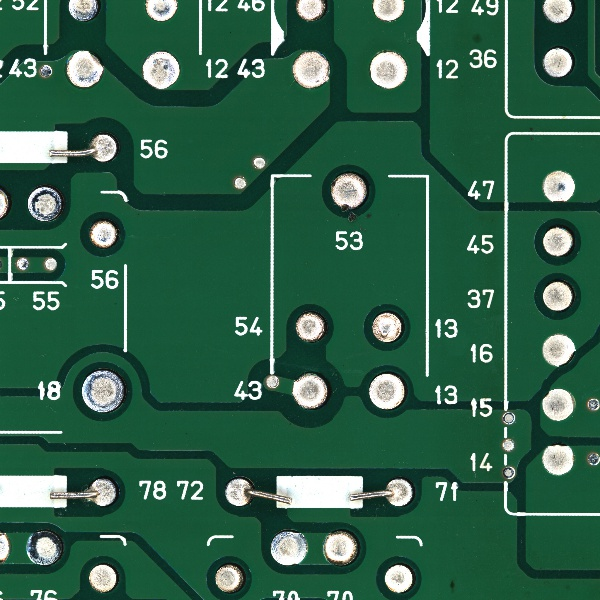Circle: (79, 367, 133, 418), (136, 44, 185, 96), (367, 369, 414, 418), (364, 45, 410, 94), (289, 368, 332, 417), (61, 46, 107, 91), (289, 48, 334, 93), (329, 169, 370, 215), (536, 328, 580, 370), (536, 384, 579, 426), (82, 471, 124, 514), (266, 526, 309, 568), (319, 529, 362, 571), (535, 166, 581, 205), (24, 527, 67, 568), (539, 275, 580, 317), (538, 441, 578, 481), (292, 307, 331, 348), (26, 183, 64, 225), (538, 220, 576, 261), (379, 474, 420, 511), (539, 45, 576, 84), (369, 307, 406, 346), (209, 559, 251, 593), (84, 130, 121, 167), (220, 475, 256, 513), (378, 561, 416, 597), (84, 562, 125, 593), (87, 218, 120, 252)
